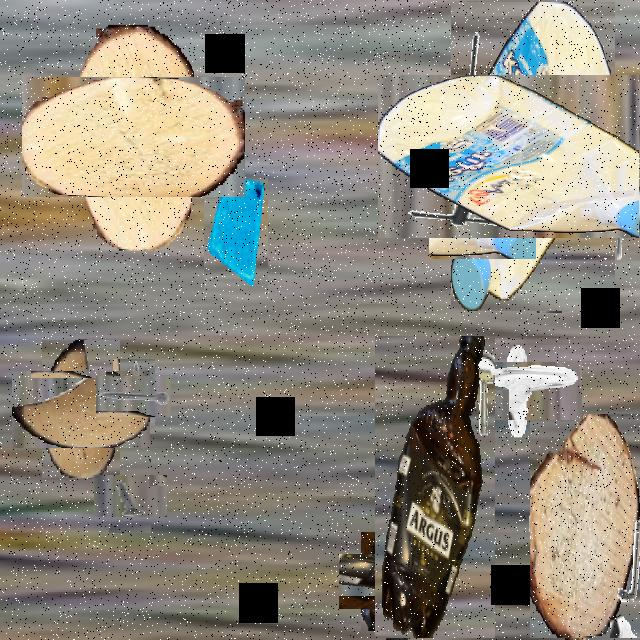glass: (204, 176, 268, 290)
metal: (441, 188, 525, 271), (491, 351, 571, 431), (350, 543, 428, 620), (515, 442, 569, 538), (105, 367, 163, 426), (101, 467, 159, 525), (600, 195, 640, 248)
plastic: (414, 38, 640, 274), (375, 336, 495, 638)
wood: (47, 51, 219, 223), (530, 414, 640, 638), (27, 355, 135, 463)
